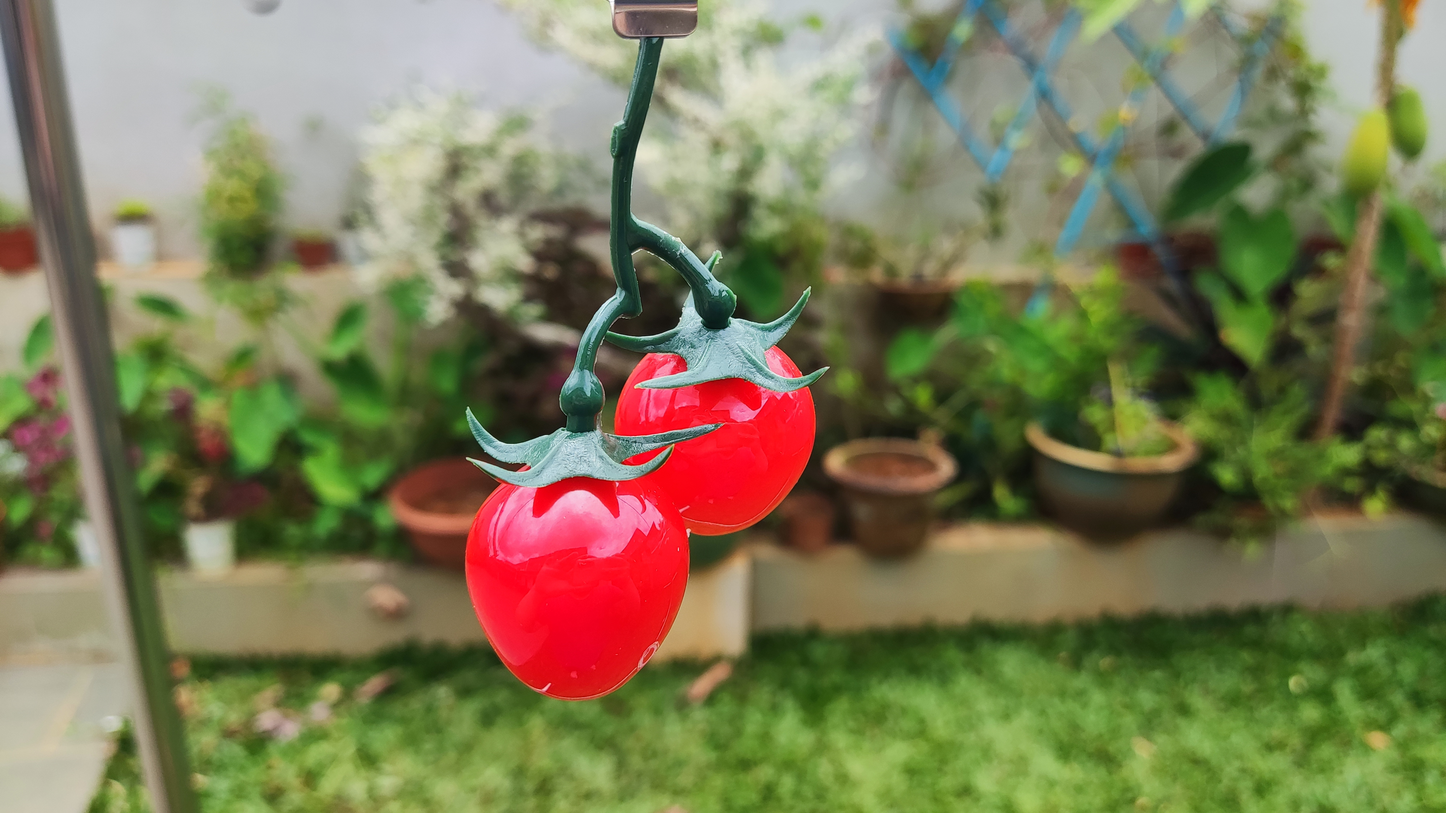peduncle: (610, 39, 665, 212)
strawberry: (465, 476, 688, 700), (615, 352, 816, 535)
